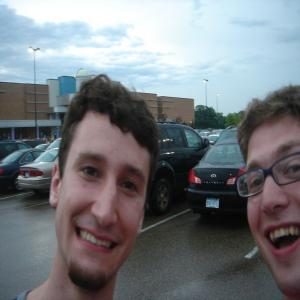Vehicle-registration-plate: (208, 199, 221, 209)
